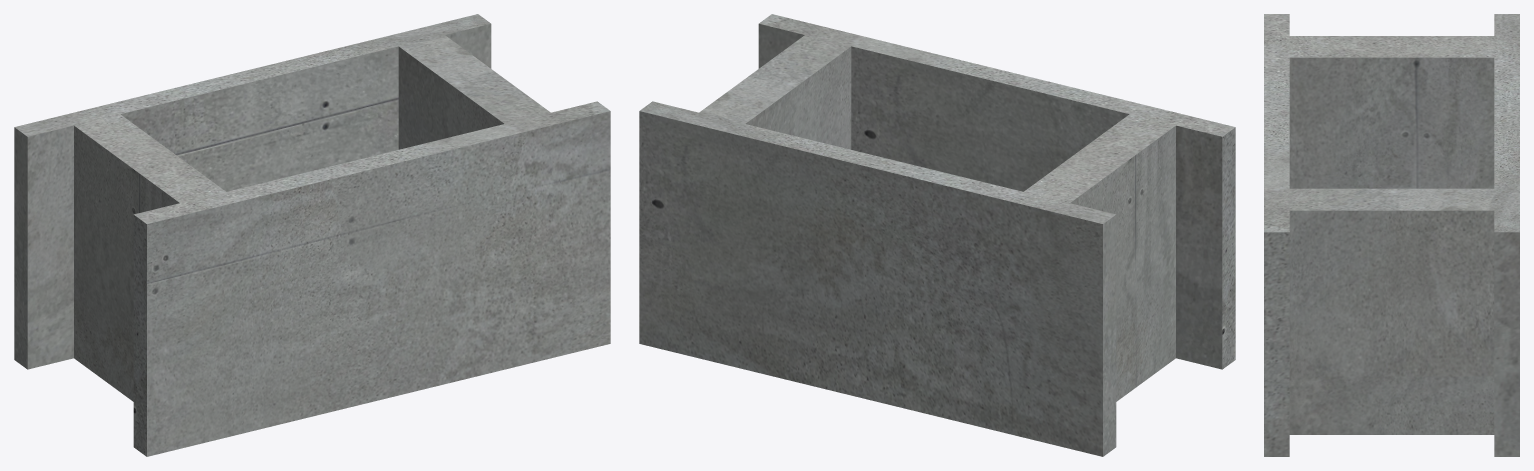
The model's file is fetchObject.glb.
3 renders of one model, left to right at view 1: azimuth 30°, elevation 25°; view 2: azimuth 150°, elevation 25°; view 3: azimuth 270°, elevation 25°, orthographic. The views are drawn at different scales.
Visible parts, largest first — view 1: Grid; view 2: Grid; view 3: Grid.
Boxes of the visible parts, <box> form: Grid: <box>14,14,610,456</box>; Grid: <box>639,14,1235,456</box>; Grid: <box>1264,14,1519,456</box>.
Bounding box in the file's own units: 0.8 × 0.3837 × 0.3962.
Materials: 1 (1 with a texture image).
